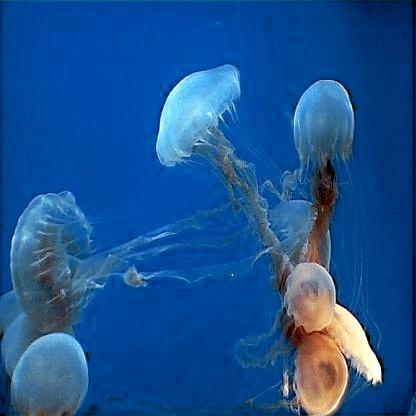Mosaic: (12, 190, 226, 328), (159, 64, 291, 282), (292, 79, 356, 255), (240, 331, 344, 413), (10, 332, 88, 416), (313, 299, 381, 385), (4, 317, 78, 385), (265, 198, 334, 270), (279, 264, 337, 337), (3, 292, 44, 330)
